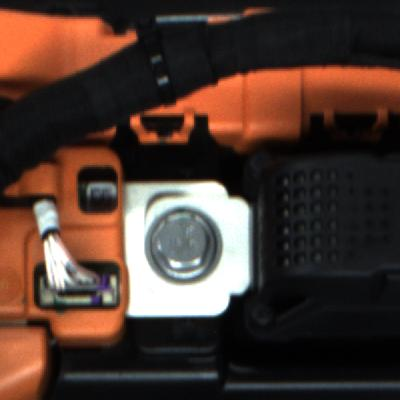nut_b: (134, 205, 228, 287)
